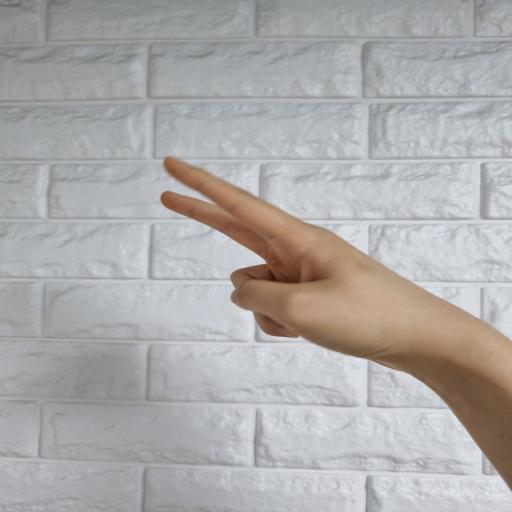Scissors: (157, 157, 474, 378)
